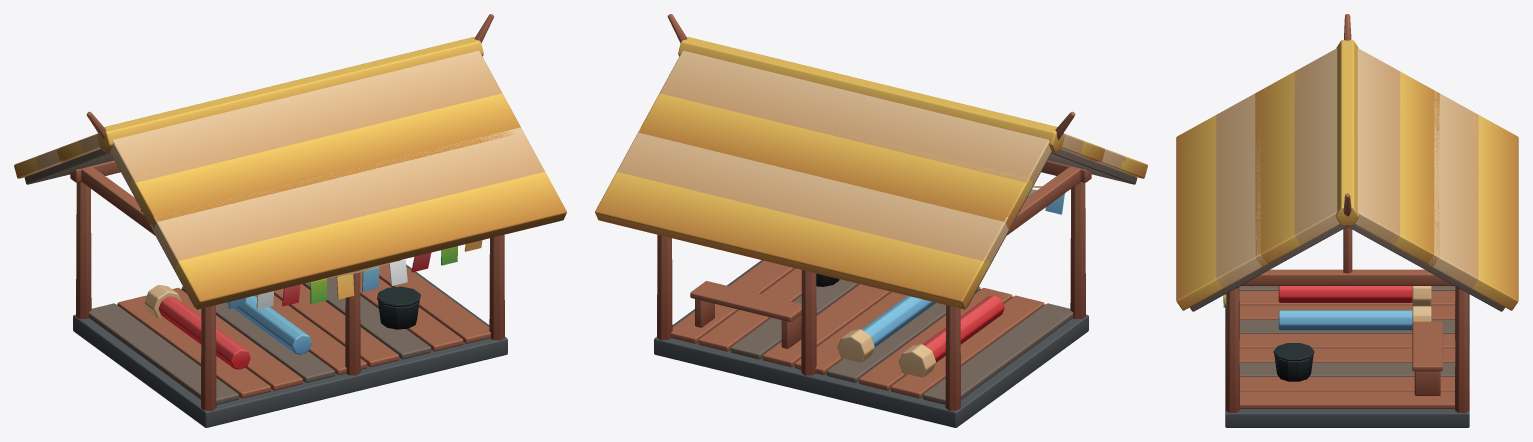
Rendered from pilgrim_shelter.glb.
3 views of the same model, side by side, from view 1: azimuth 30°, elevation 25°; view 2: azimuth 150°, elevation 25°; view 3: azimuth 270°, elevation 25° (orthographic). The views are drawn at different scales.
Visible parts, largest first — view 1: pilgrim_shelter; view 2: pilgrim_shelter; view 3: pilgrim_shelter.
Part boxes in pixels (x1,y1,x2,y2): pilgrim_shelter: (14,14,566,427); pilgrim_shelter: (595,14,1147,427); pilgrim_shelter: (1176,14,1518,427).
Size of the model in its own units: 5.64 by 3.71 by 4.48.
Materials: 1 (1 with a texture image).
